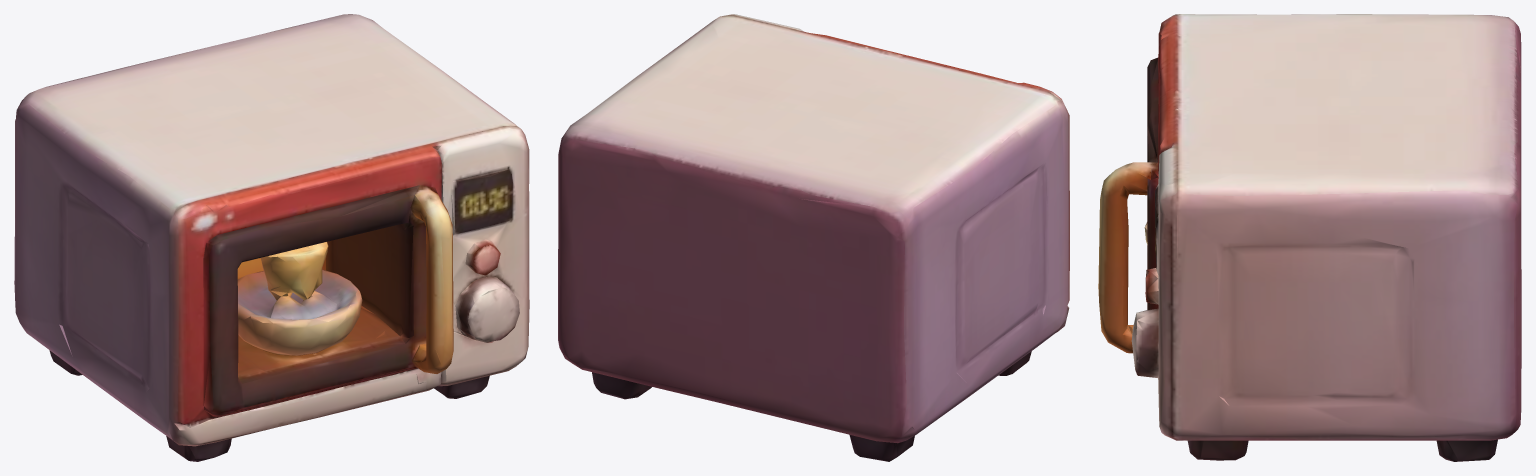
The model's file is appl16.glb.
3 views of the same model, side by side, from view 1: azimuth 30°, elevation 25°; view 2: azimuth 150°, elevation 25°; view 3: azimuth 270°, elevation 25° (orthographic). The views are drawn at different scales.
Bounding box in the file's own units: 0.2301 × 0.1664 × 0.2211.
Materials: 1 (1 with a texture image).
